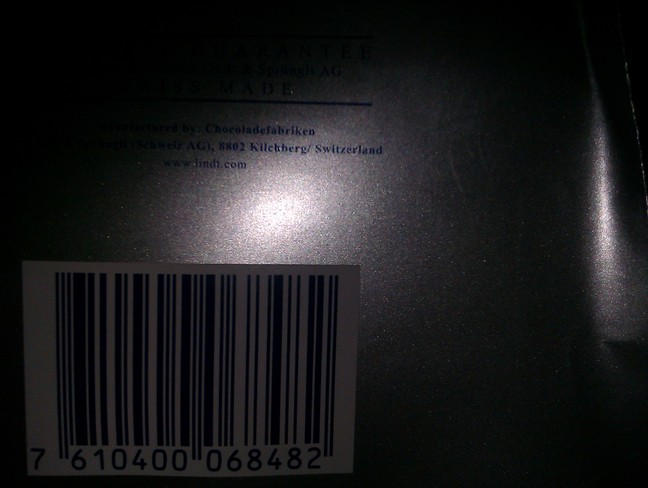barcode: (20, 264, 347, 471)
